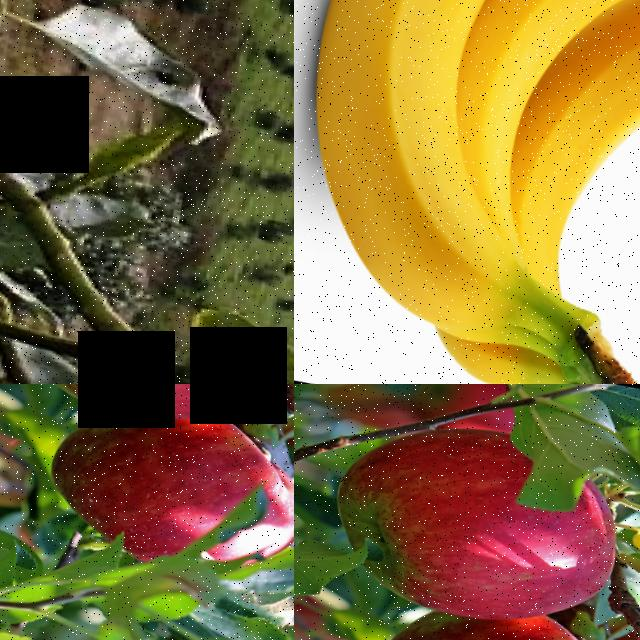apple: (298, 390, 640, 640), (5, 384, 294, 610), (0, 384, 294, 470), (332, 584, 640, 640), (269, 403, 294, 526)
banana: (294, 0, 640, 384)
